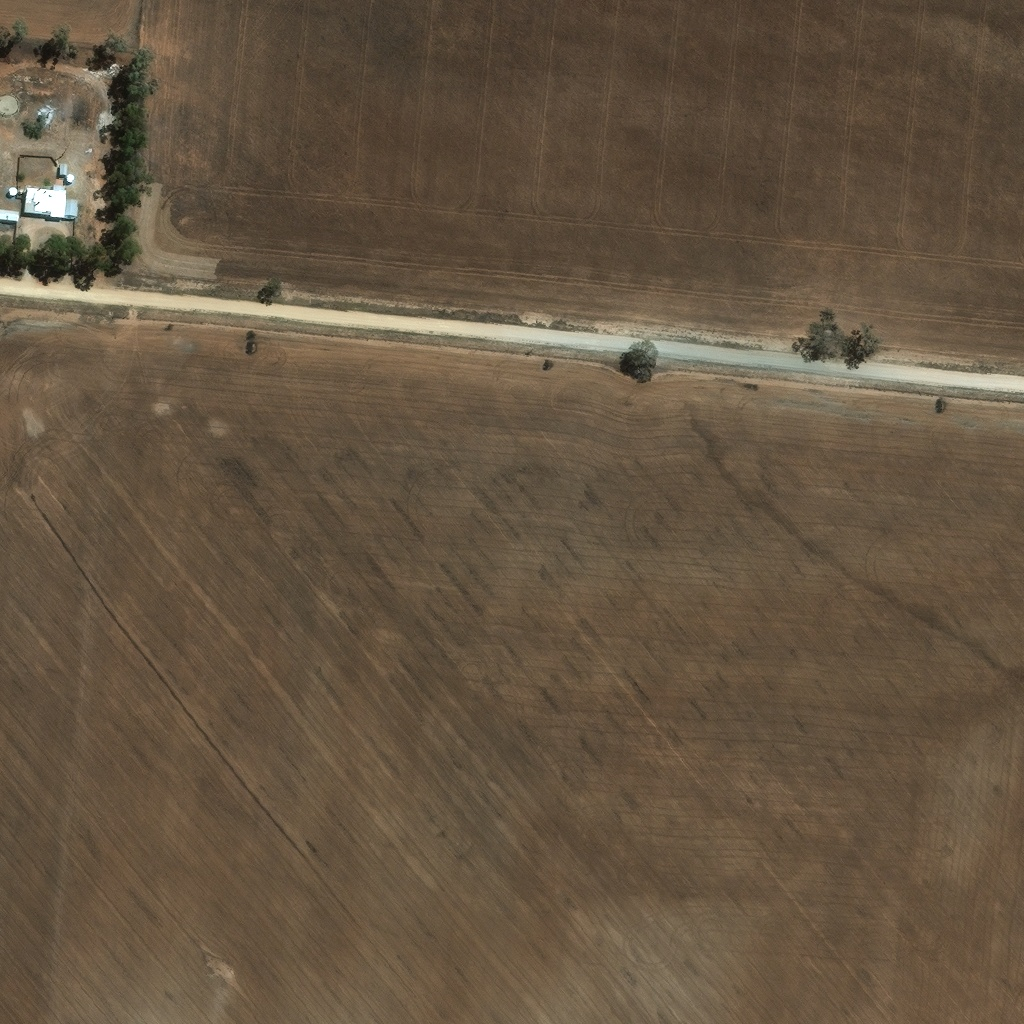0 no-damage: (24, 183, 67, 217), (66, 197, 80, 217), (0, 209, 21, 221), (61, 162, 68, 173), (9, 186, 18, 194), (68, 173, 75, 181)
